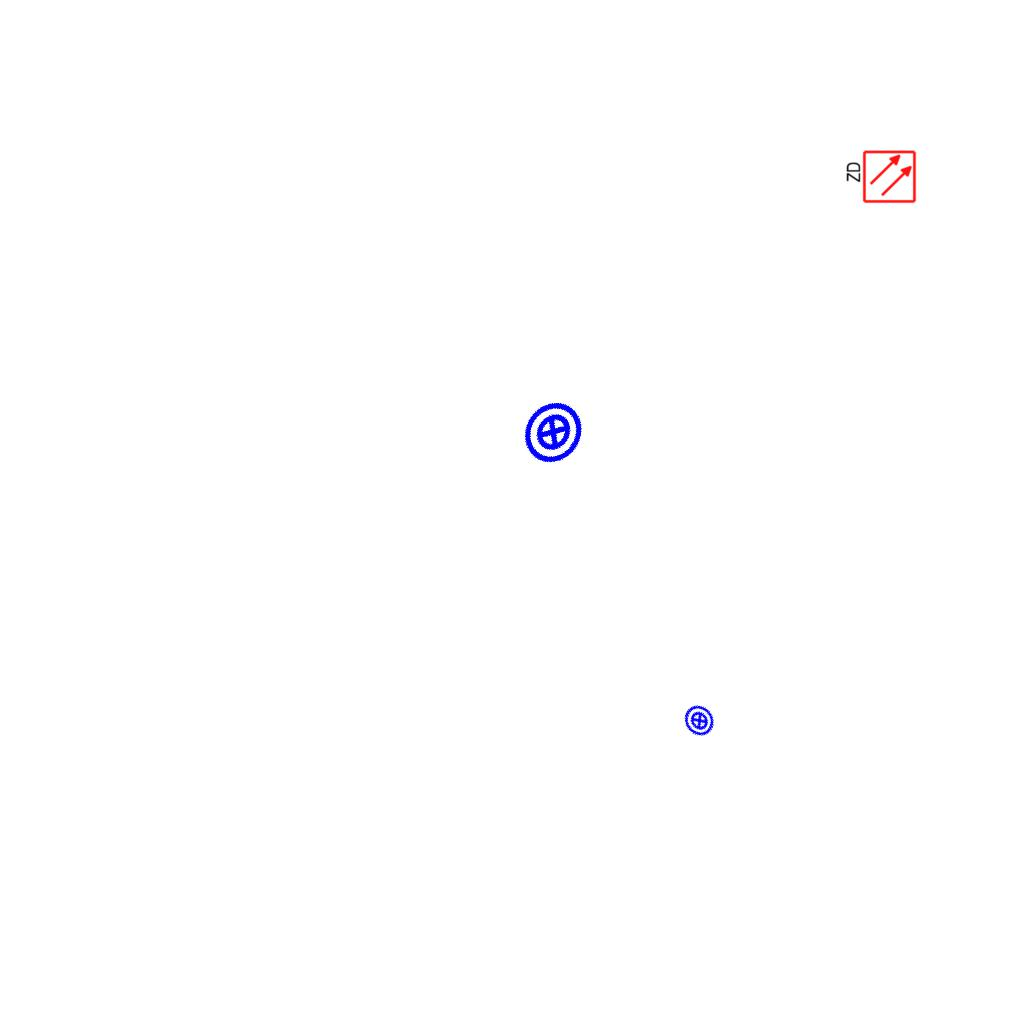Taster_beleuchtet: (507, 386, 599, 478), (676, 697, 723, 744)
ZD_Melder_in_Zwischendecke_mit_Revisionsoeffnung_mind_40_x_40_cm: (843, 149, 917, 206)
